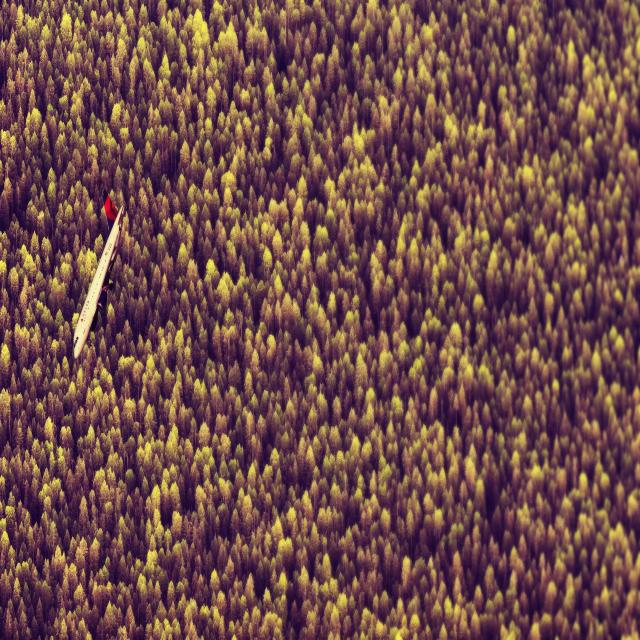airplane: (72, 187, 124, 359)
